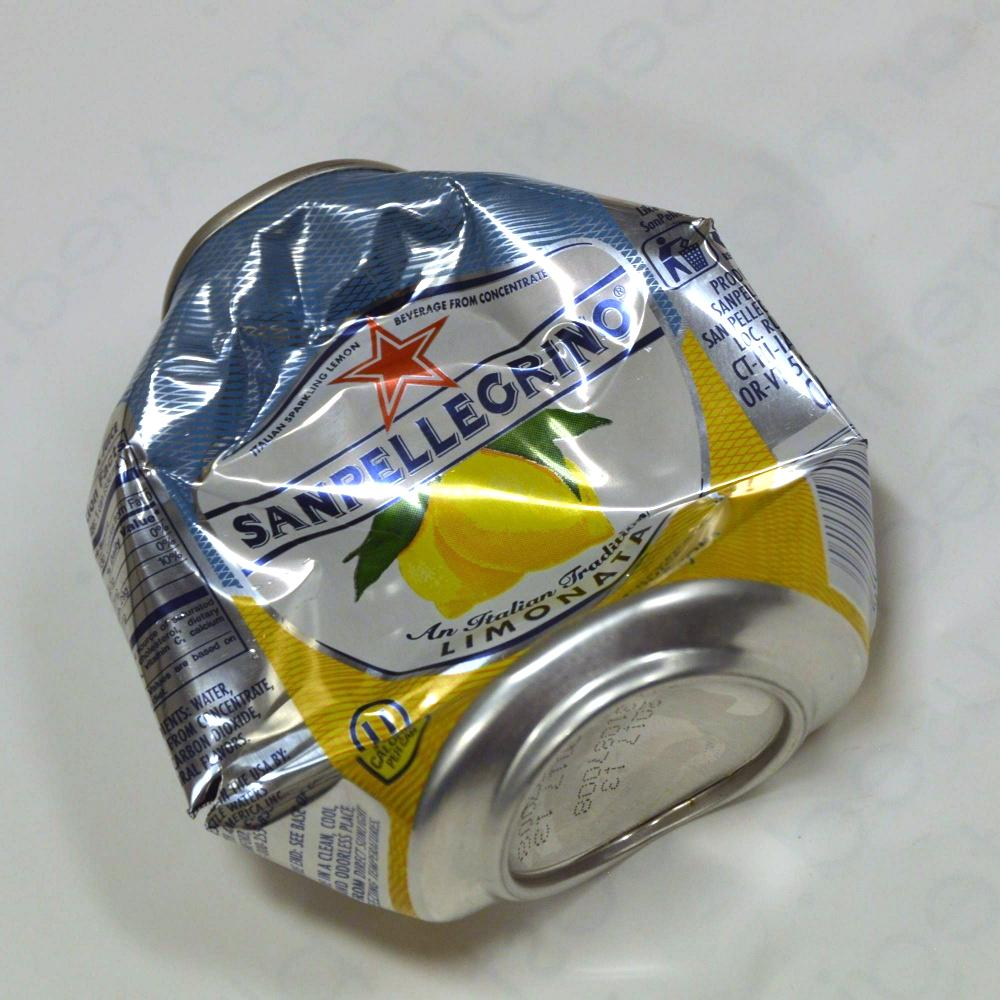Metal: (63, 113, 886, 957)
